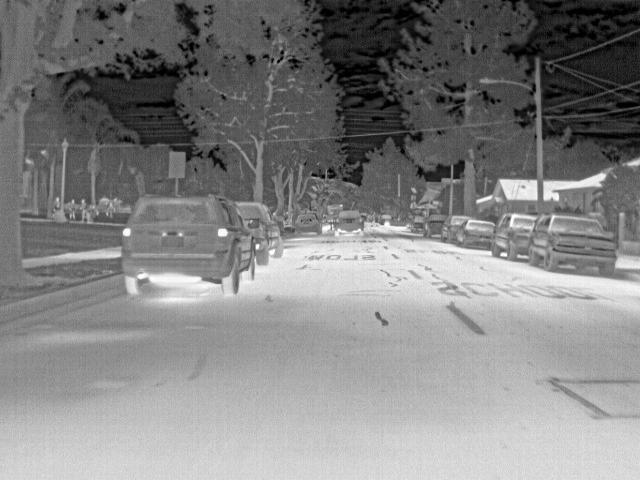car: (120, 192, 256, 296), (531, 214, 618, 278), (236, 201, 283, 265), (492, 210, 539, 261), (458, 220, 496, 250), (446, 213, 475, 245), (334, 208, 365, 236), (294, 211, 323, 235), (425, 212, 445, 239), (407, 212, 424, 233)
person: (78, 196, 90, 224), (67, 196, 79, 220), (51, 196, 62, 210)
